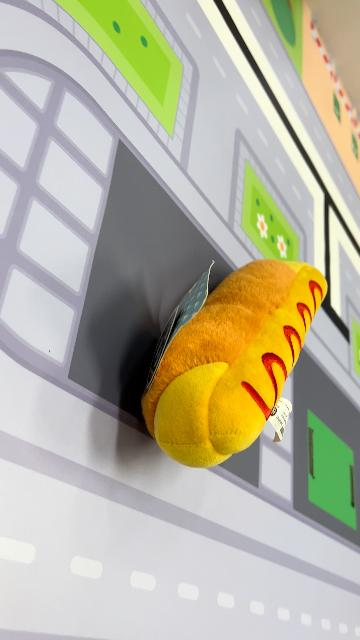hotdog: (140, 258, 330, 470)
